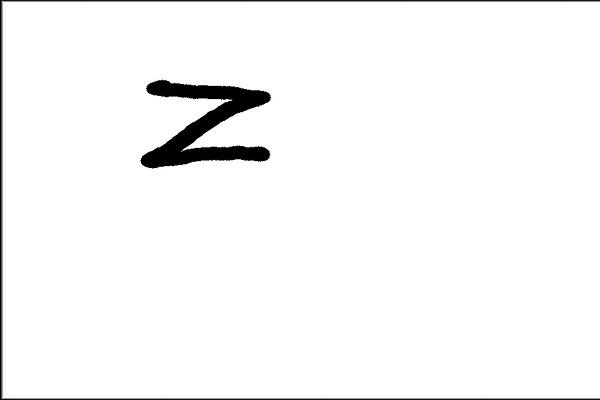Z: (133, 66, 282, 175)
